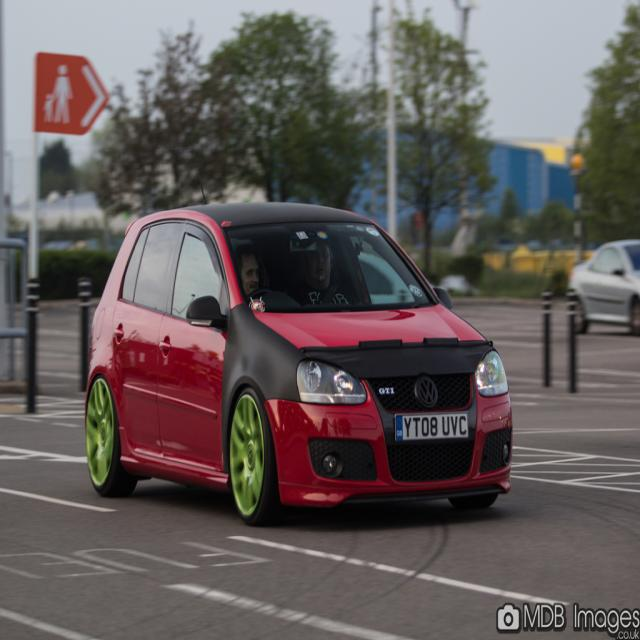car: (83, 177, 512, 511)
